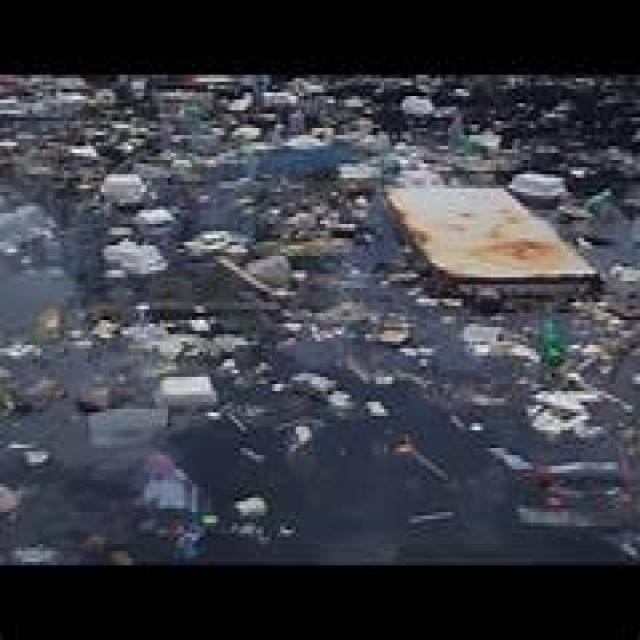mask: (91, 412, 164, 449)
plasticbottle: (538, 314, 565, 362)
thermocoal: (536, 391, 595, 429), (104, 170, 147, 202), (162, 372, 209, 400)
wood: (388, 179, 603, 292)
